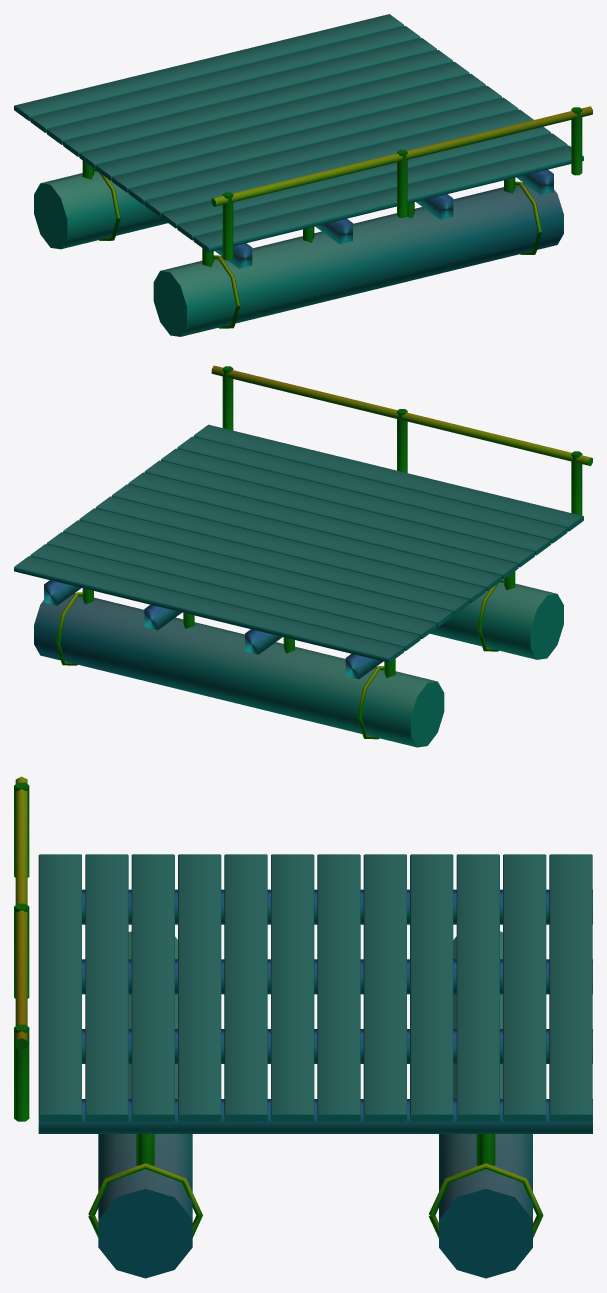
The model's file is hm_dock_4m_open_n.glb.
3 renders of one model, top to bottom at view 1: azimuth 30°, elevation 25°; view 2: azimuth 150°, elevation 25°; view 3: azimuth 270°, elevation 25°, orthographic. The views are drawn at different scales.
Parts seen in each view (by area): view 1: hm_dock_4m_open_n; view 2: hm_dock_4m_open_n; view 3: hm_dock_4m_open_n.
Part boxes in pixels (x1,y1,x2,y2): hm_dock_4m_open_n: [14, 14, 592, 336]; hm_dock_4m_open_n: [14, 365, 592, 747]; hm_dock_4m_open_n: [14, 776, 592, 1278].
Size of what is drawn, in the model's own units: 4 by 1.77 by 3.74.
